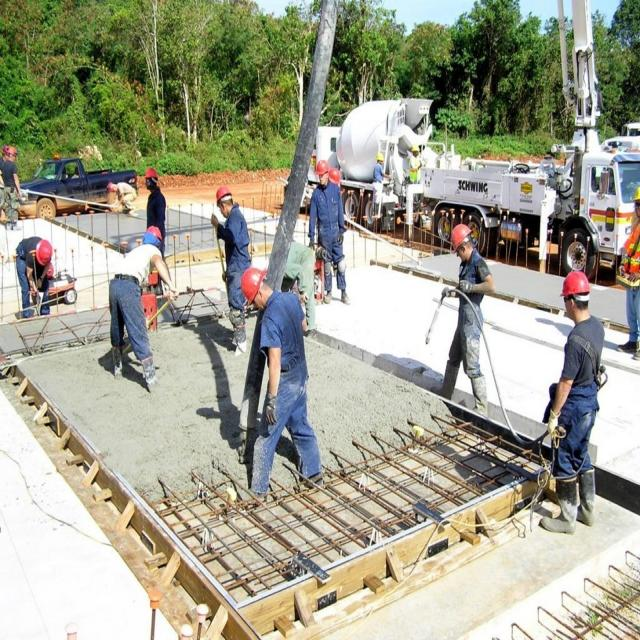Helmet: (243, 267, 268, 310), (563, 273, 591, 303), (450, 226, 474, 254), (36, 240, 54, 268), (145, 226, 164, 246), (218, 186, 235, 203), (318, 161, 330, 179), (145, 168, 159, 182), (632, 187, 640, 205), (9, 149, 21, 158), (378, 153, 386, 166), (2, 146, 11, 157), (413, 147, 421, 157)
Jacket: (622, 225, 640, 281)
NoJacket: (263, 296, 301, 395), (569, 313, 599, 412), (457, 258, 485, 329), (317, 184, 339, 257), (228, 205, 246, 275), (131, 246, 158, 291), (149, 184, 163, 225), (5, 158, 18, 191), (375, 166, 384, 186)
